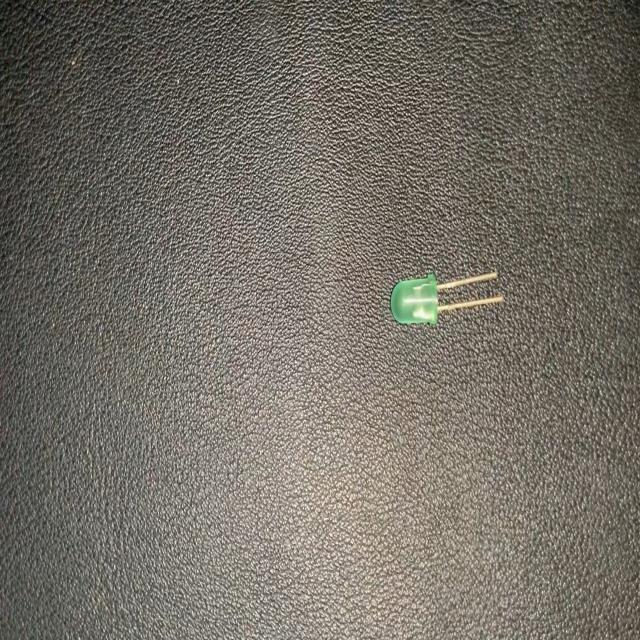LED: (388, 268, 505, 327)
